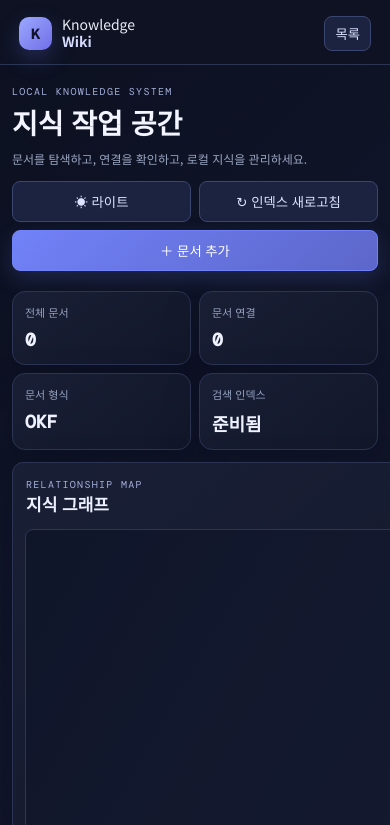
Scenario: opens and closes the compact mobile document navigation
Click the button with aria-label "문서 목록 열기": [348, 33] box left=324, top=16, right=371, bottom=50
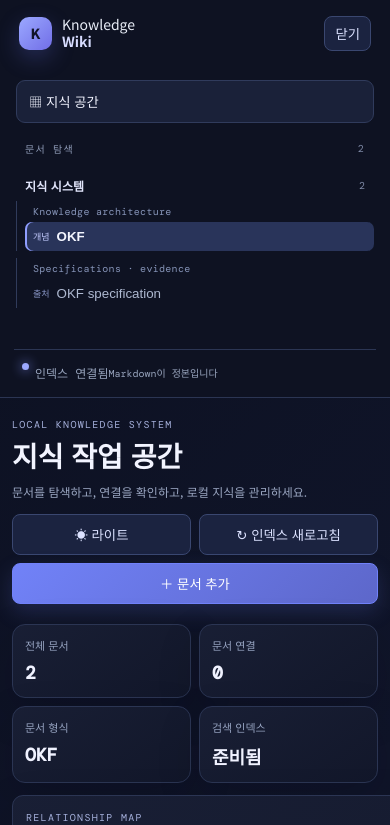
Check: the button with aria-label "문서 목록 닫기" is expanded, box left=324, top=16, right=371, bottom=50
